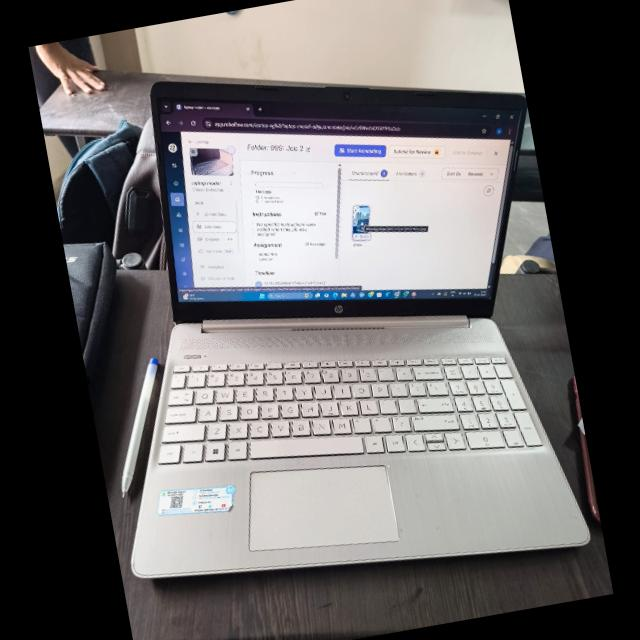laptop: (61, 0, 605, 636)
